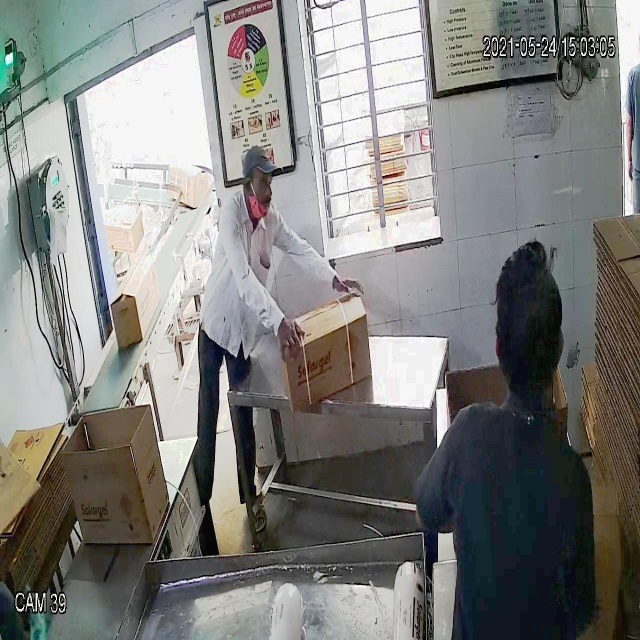Sin_gafas: (239, 170, 276, 198)
